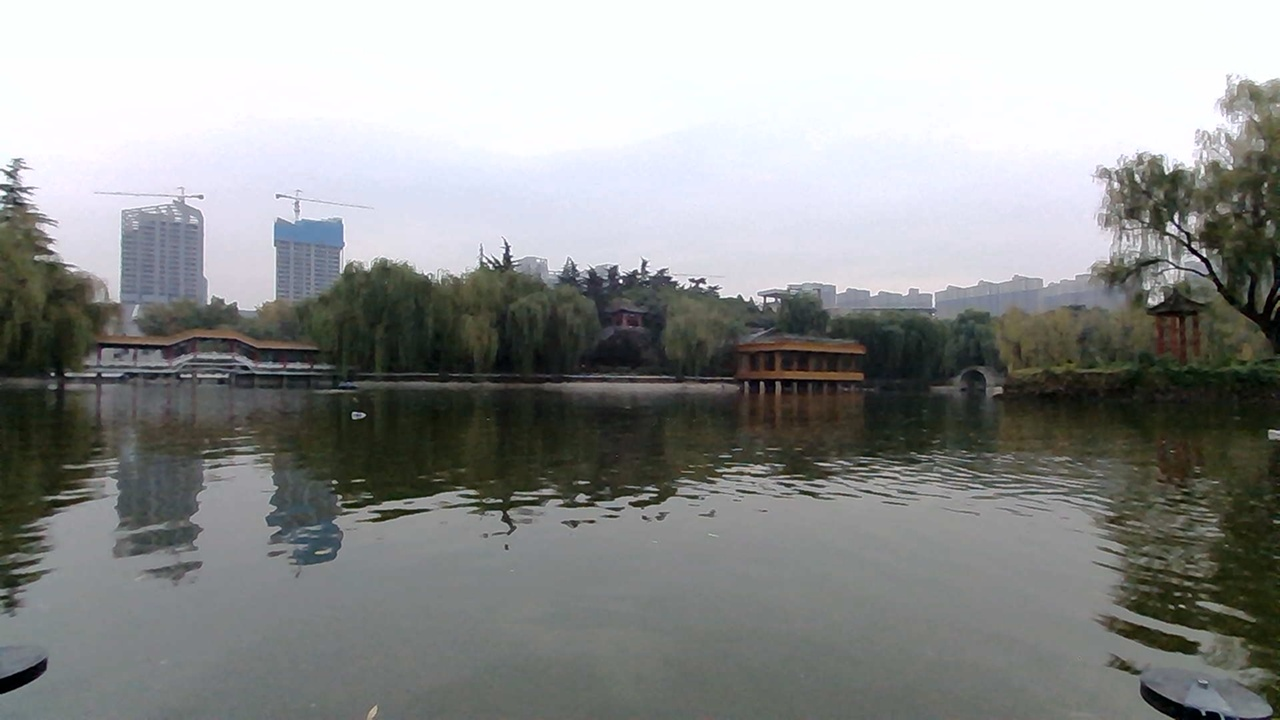bottle: (337, 400, 382, 424)
